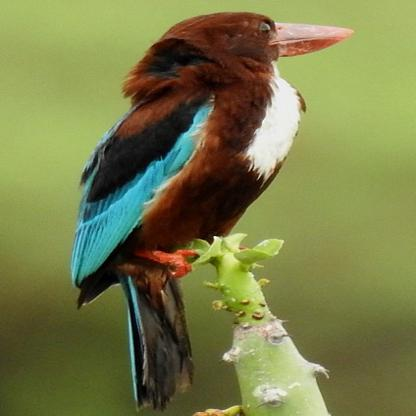Burung: (73, 11, 352, 411)
